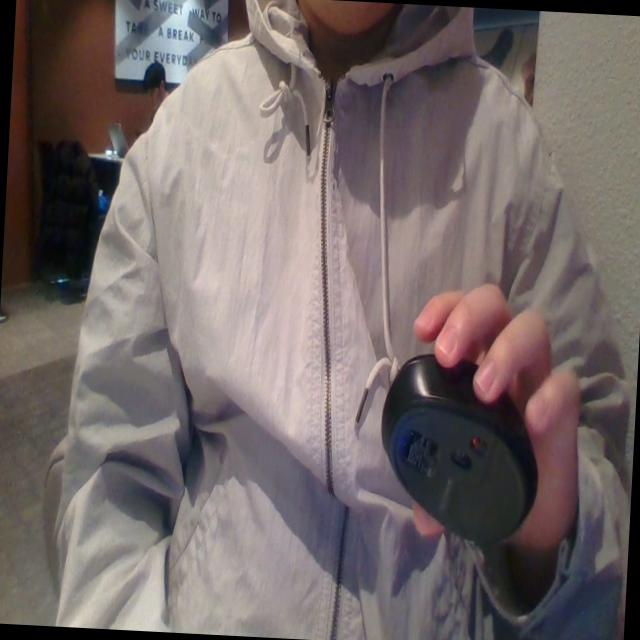grab_mouse: (378, 272, 592, 585)
mouse: (374, 341, 544, 539)
